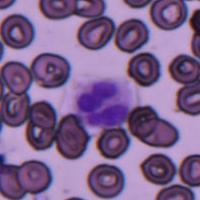N: (74, 77, 136, 129)
